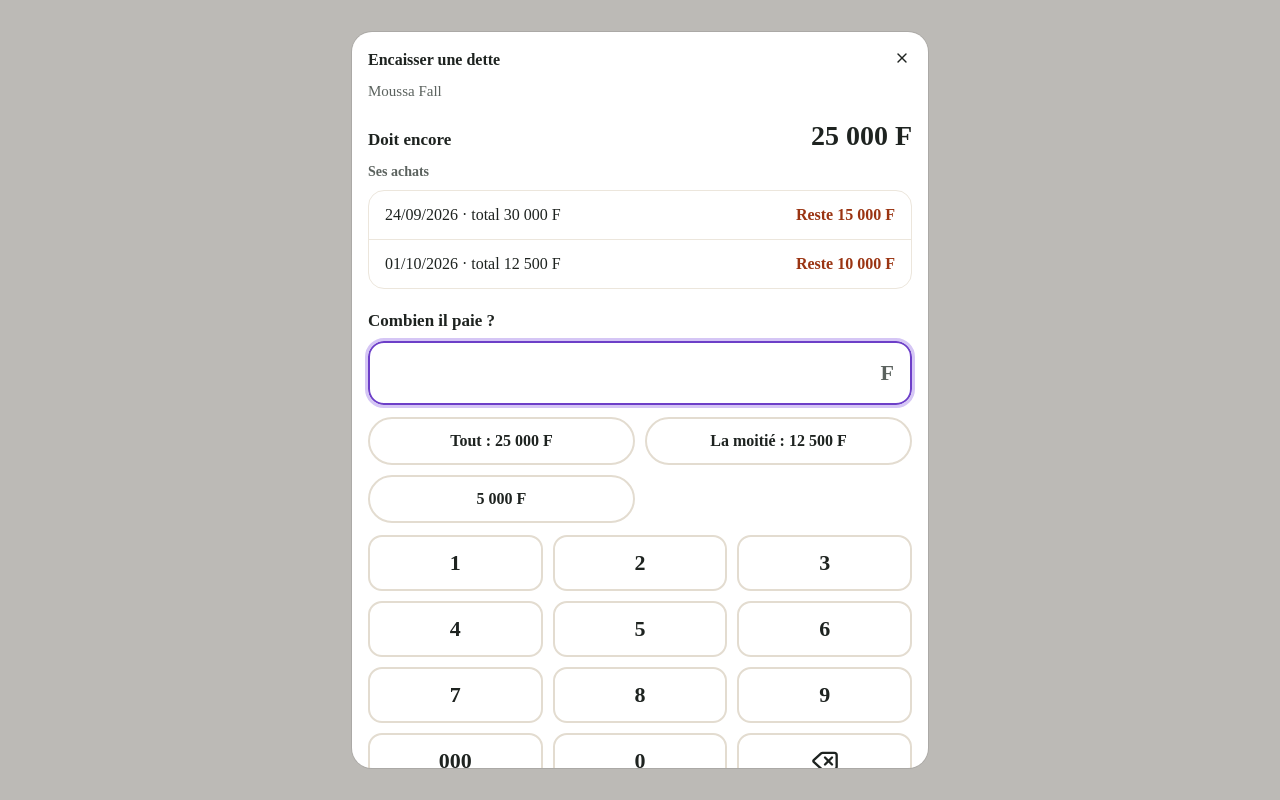
Scenario: Encaisser une dette › refuse plus que ce qui est dû
The width and height of the screenshot is (1280, 800).
Expected: the text "25 000 F" is shown, [811,118,912,154]
In the field labelled "Combien il paie ?": coordinates (640, 373) [368,341,912,405], type "30000"
(page scrolled)
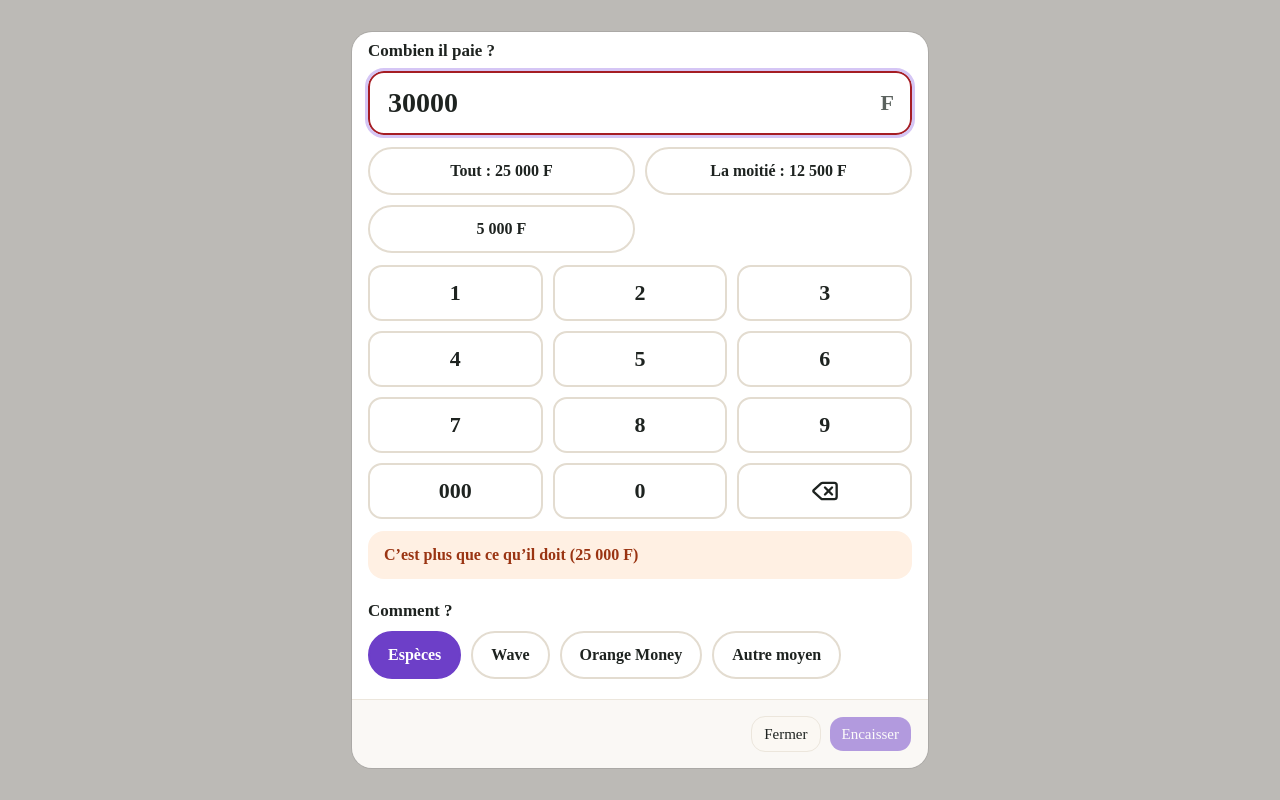
Expected: the button "Encaisser" is disabled, [828,716,912,752]
Now the text "C’est plus que ce qu’il doit (25 000 F)" is shown, box [368,531,912,579]
